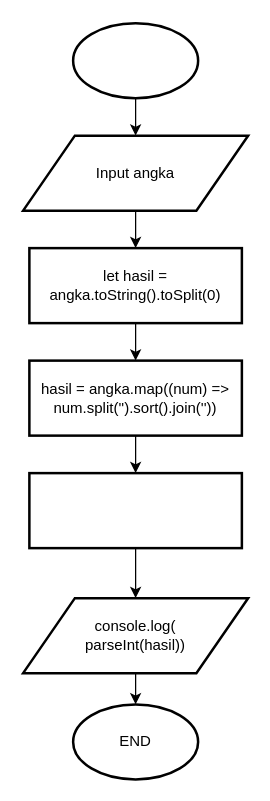
Image size: 270x801. Some labels were removed from this diagram. The shapes that lost their labels are listed below. From the top down, each one's centre as x and y in pixels, then its label:
[135,60]: START
[135,510]: hasil = angka.join('')
